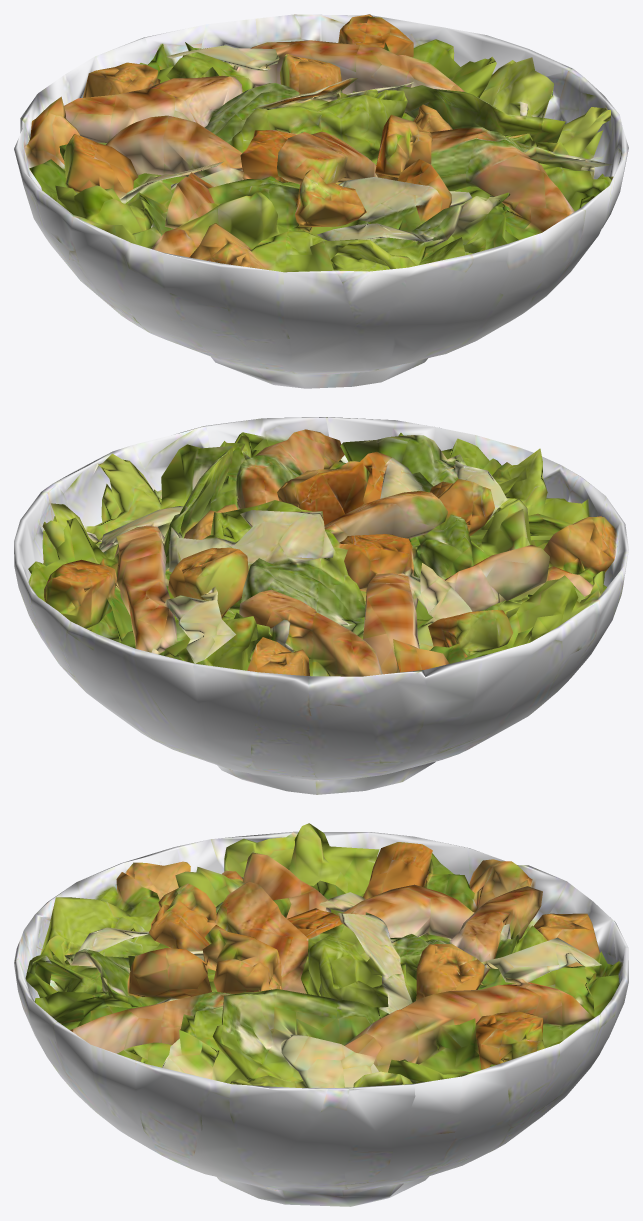
Rendered from caesar-salad-sv.glb.
3 views of the same model, one above another, from view 1: azimuth 30°, elevation 25°; view 2: azimuth 150°, elevation 25°; view 3: azimuth 270°, elevation 25° (orthographic).
Parts seen in each view (by area): view 1: mesh_node; view 2: mesh_node; view 3: mesh_node.
Part boxes in pixels (x1,y1,x2,y2): mesh_node: (14, 14, 628, 388); mesh_node: (14, 417, 628, 794); mesh_node: (14, 823, 628, 1206).
Bounding box in the file's own units: 0.0287 × 0.0126 × 0.0287.
1 material, 1 textured.
